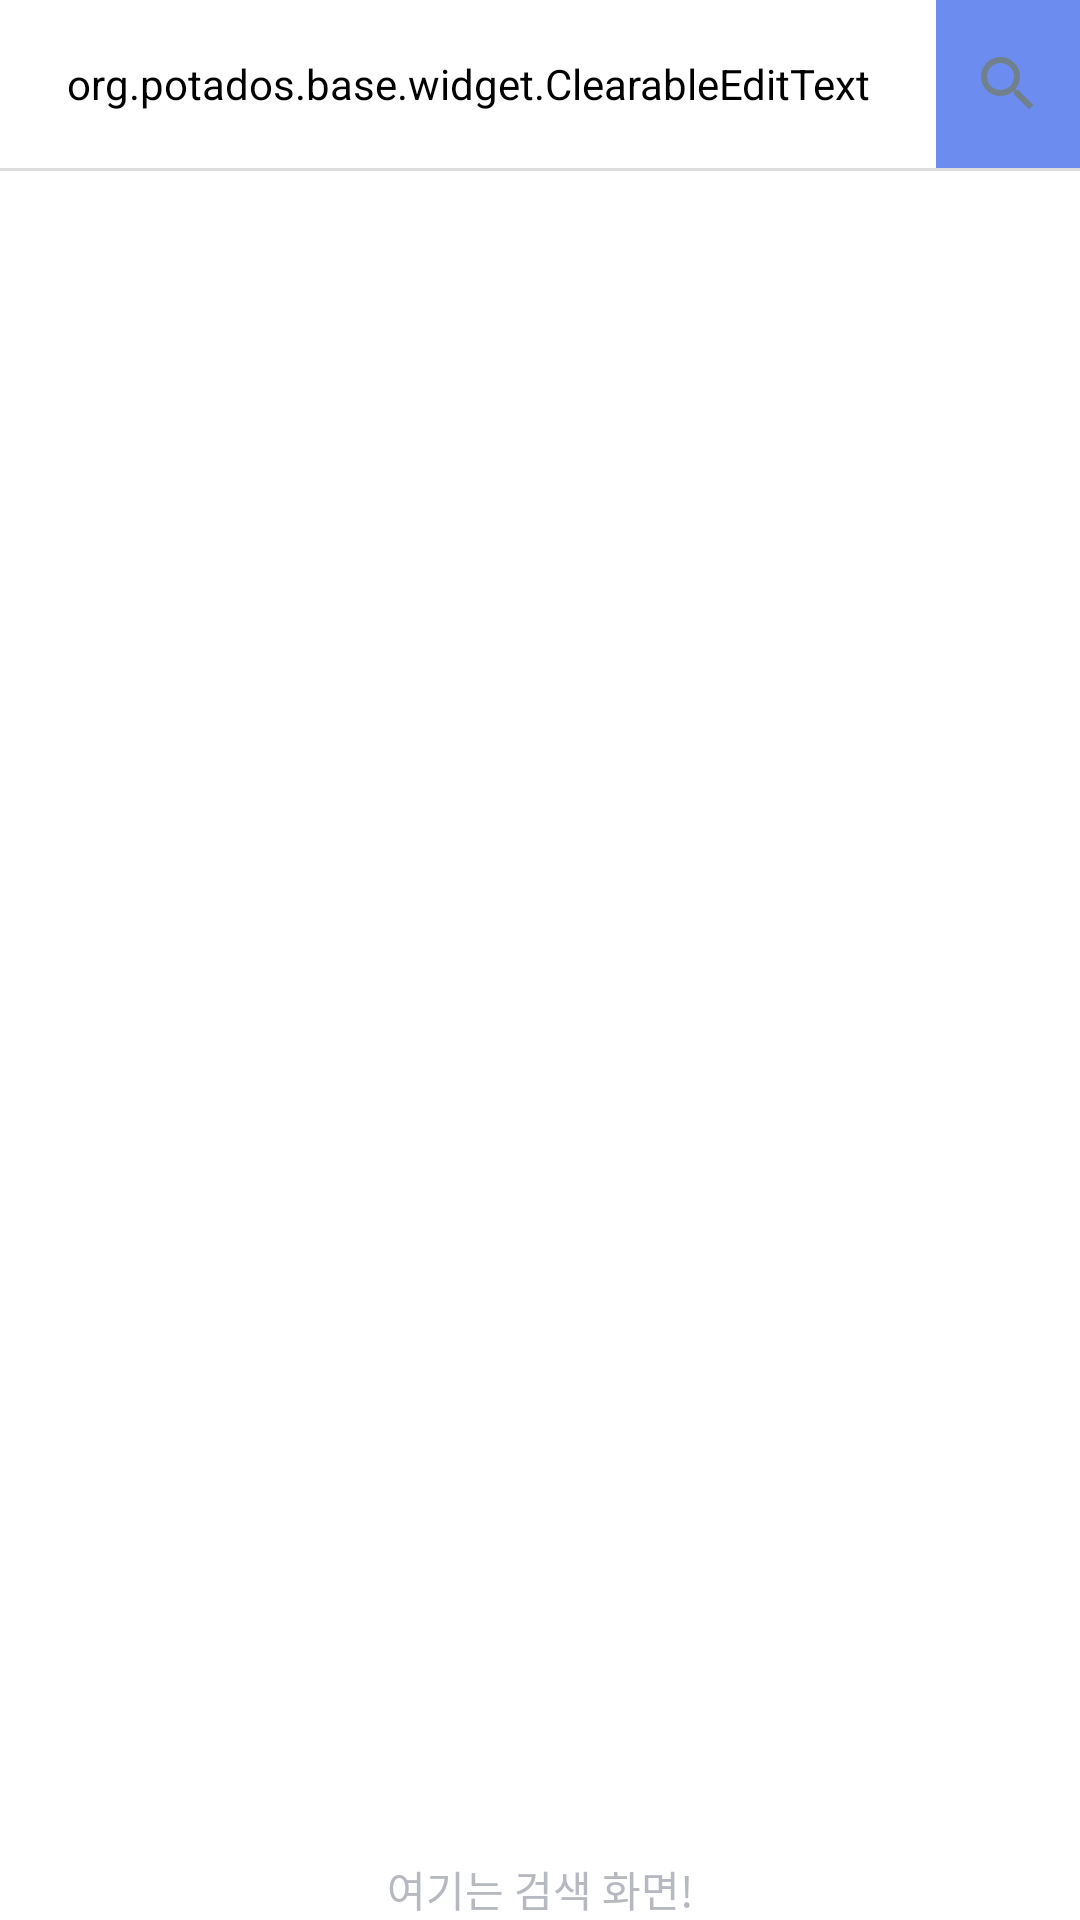

Named icons in this screenshot (1080x1920) and their bounding boxes, (x1, y1, x2, y2):
검색 버튼입니다: (936, 0, 1080, 168)
